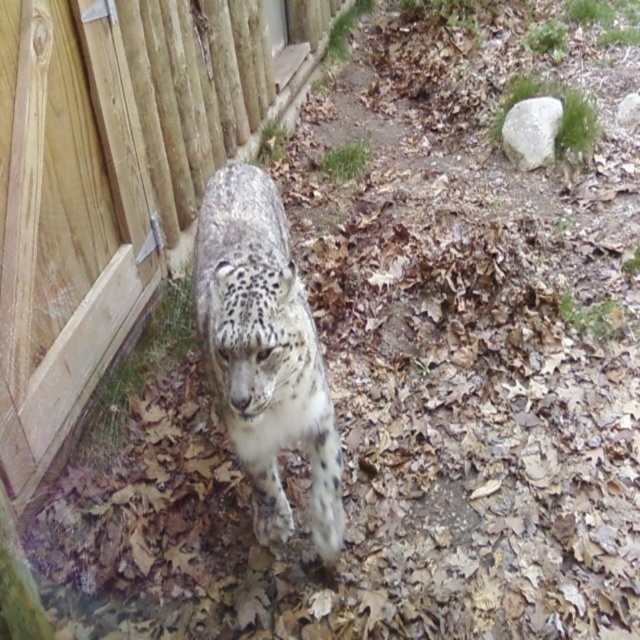Leopard: (192, 161, 342, 620)
